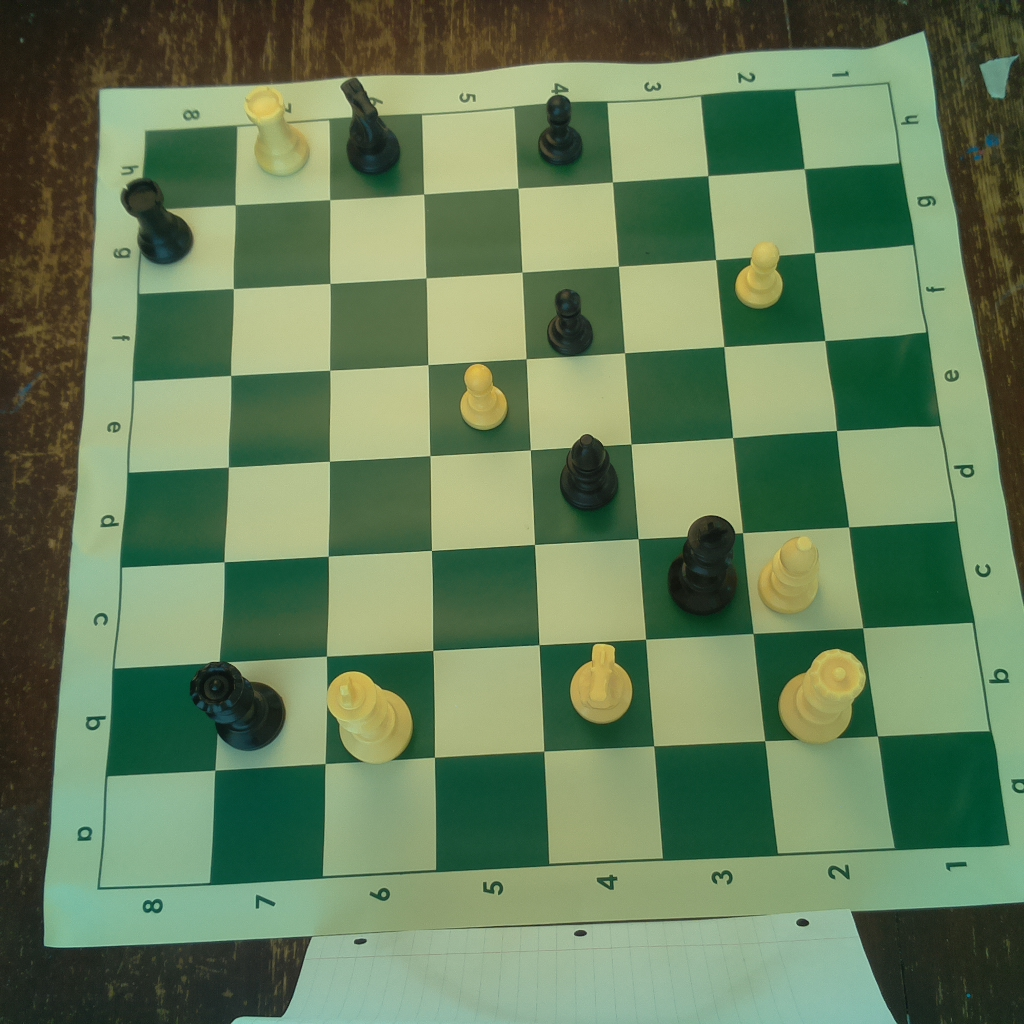black_bishop: (558, 431, 621, 513)
black_king: (668, 512, 740, 614)
black_knight: (338, 75, 403, 174)
black_pawn: (531, 92, 589, 167), (545, 288, 599, 360)
black_queen: (189, 656, 288, 753)
black_rook: (119, 177, 194, 269)
file_a: (97, 730, 1010, 888)
file_b: (105, 622, 994, 777)
file_c: (116, 522, 975, 670)
file_d: (119, 426, 957, 570)
file_e: (128, 331, 940, 471)
file_f: (131, 243, 932, 382)
file_g: (137, 164, 915, 292)
file_h: (141, 84, 901, 209)
outline: (97, 82, 1008, 887)
rank_1: (796, 82, 1010, 852)
rank_2: (702, 87, 894, 854)
rank_3: (606, 96, 780, 857)
rank_4: (516, 99, 668, 865)
rank_5: (423, 105, 549, 873)
rank_6: (320, 113, 438, 877)
rank_7: (210, 121, 331, 886)
rank_8: (99, 126, 238, 892)
white_bishop: (758, 534, 824, 615)
white_king: (324, 665, 415, 767)
white_knight: (568, 640, 634, 730)
white_pawn: (455, 360, 511, 434), (733, 236, 788, 308)
white_queen: (777, 640, 872, 745)
white_rook: (242, 84, 312, 178)
